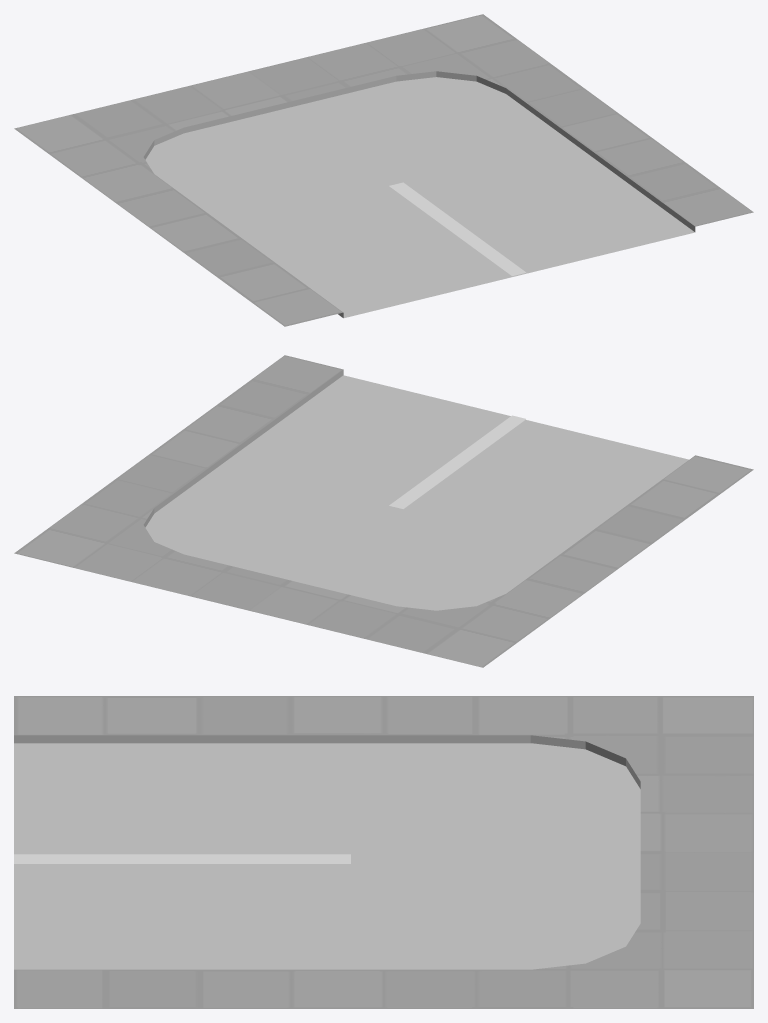
File: tile_road_reverse_1x1_a.fbx
3 views of the same model, one above another, from view 1: azimuth 30°, elevation 25°; view 2: azimuth 150°, elevation 25°; view 3: azimuth 270°, elevation 25° (orthographic). The views are drawn at different scales.
Visible parts, largest first — view 1: tile_road_reverse_1x1_a; view 2: tile_road_reverse_1x1_a; view 3: tile_road_reverse_1x1_a.
Part boxes in pixels (<box>): tile_road_reverse_1x1_a: <box>14,14,753,326</box>; tile_road_reverse_1x1_a: <box>14,355,753,667</box>; tile_road_reverse_1x1_a: <box>14,696,753,1008</box>.
Bounding box in the file's own units: 1600 × 19.01 × 1600.
